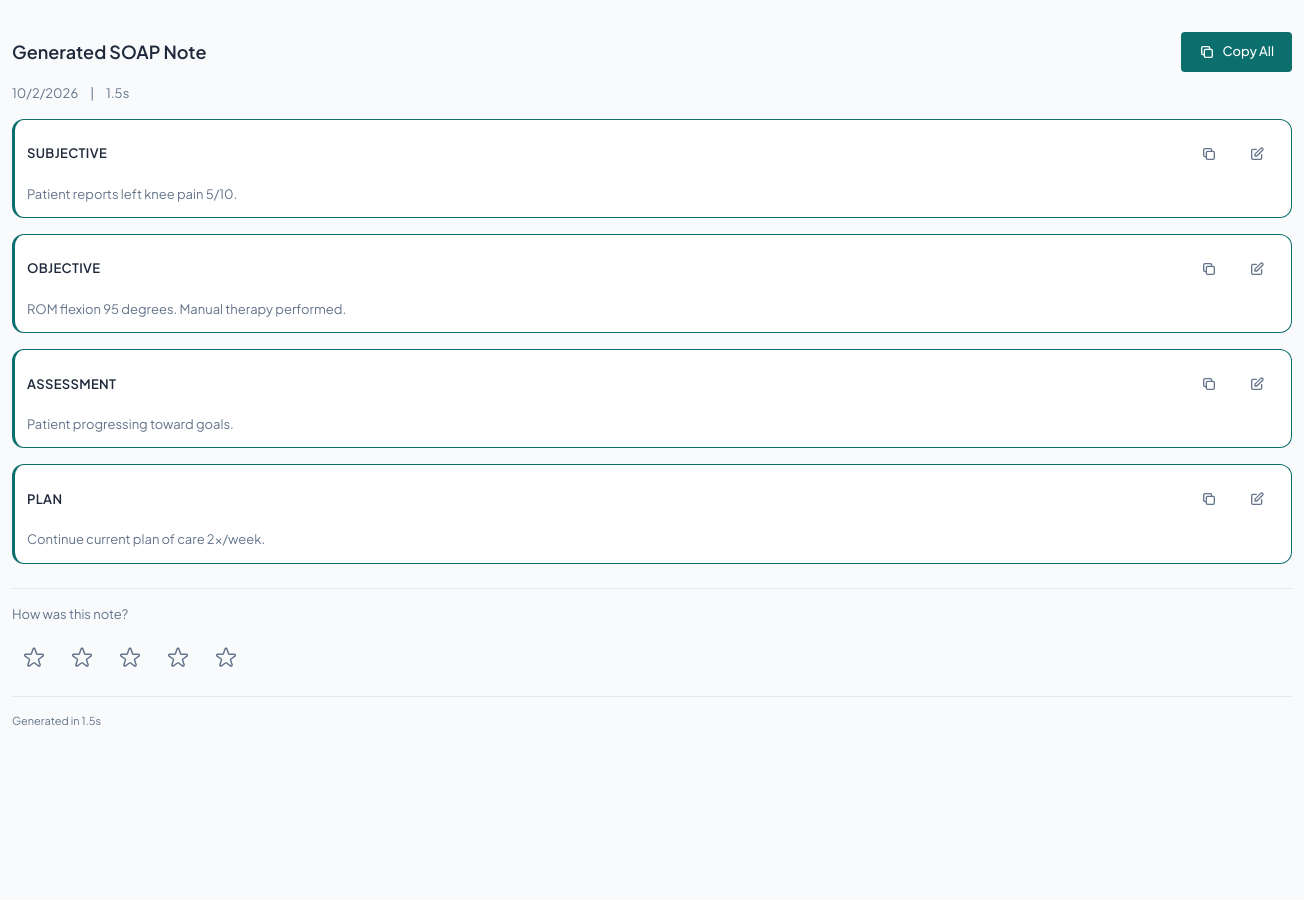
it: GeneratedNote › edit button toggles section into edit mode
Click the button named "Edit Subjective section": [1257, 154] box x1=1235 y1=132 x2=1279 y2=176
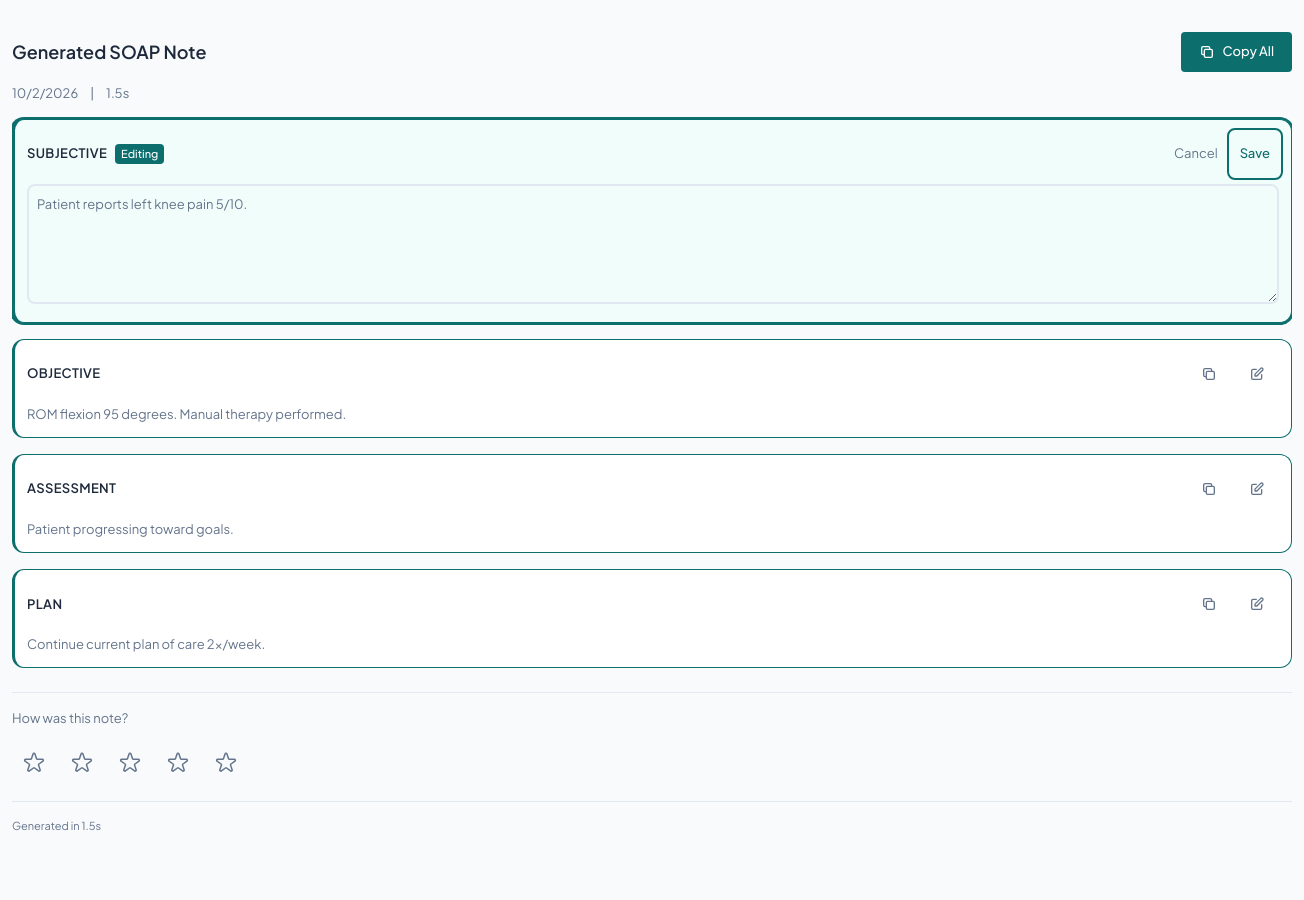
Expected: the text box named "Edit Subjective section content" is shown, x1=27 y1=184 x2=1279 y2=304
